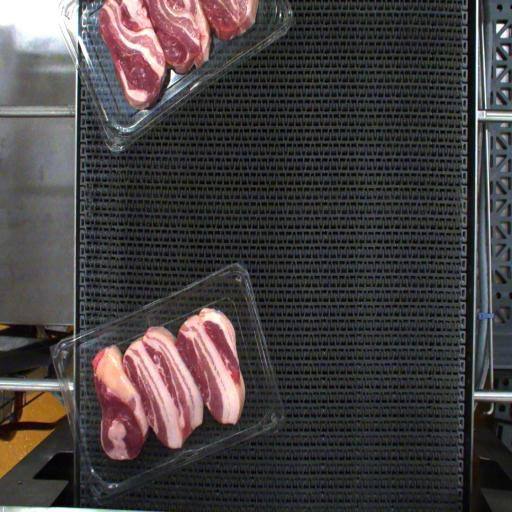twisted-meat: (94, 346, 146, 439)
